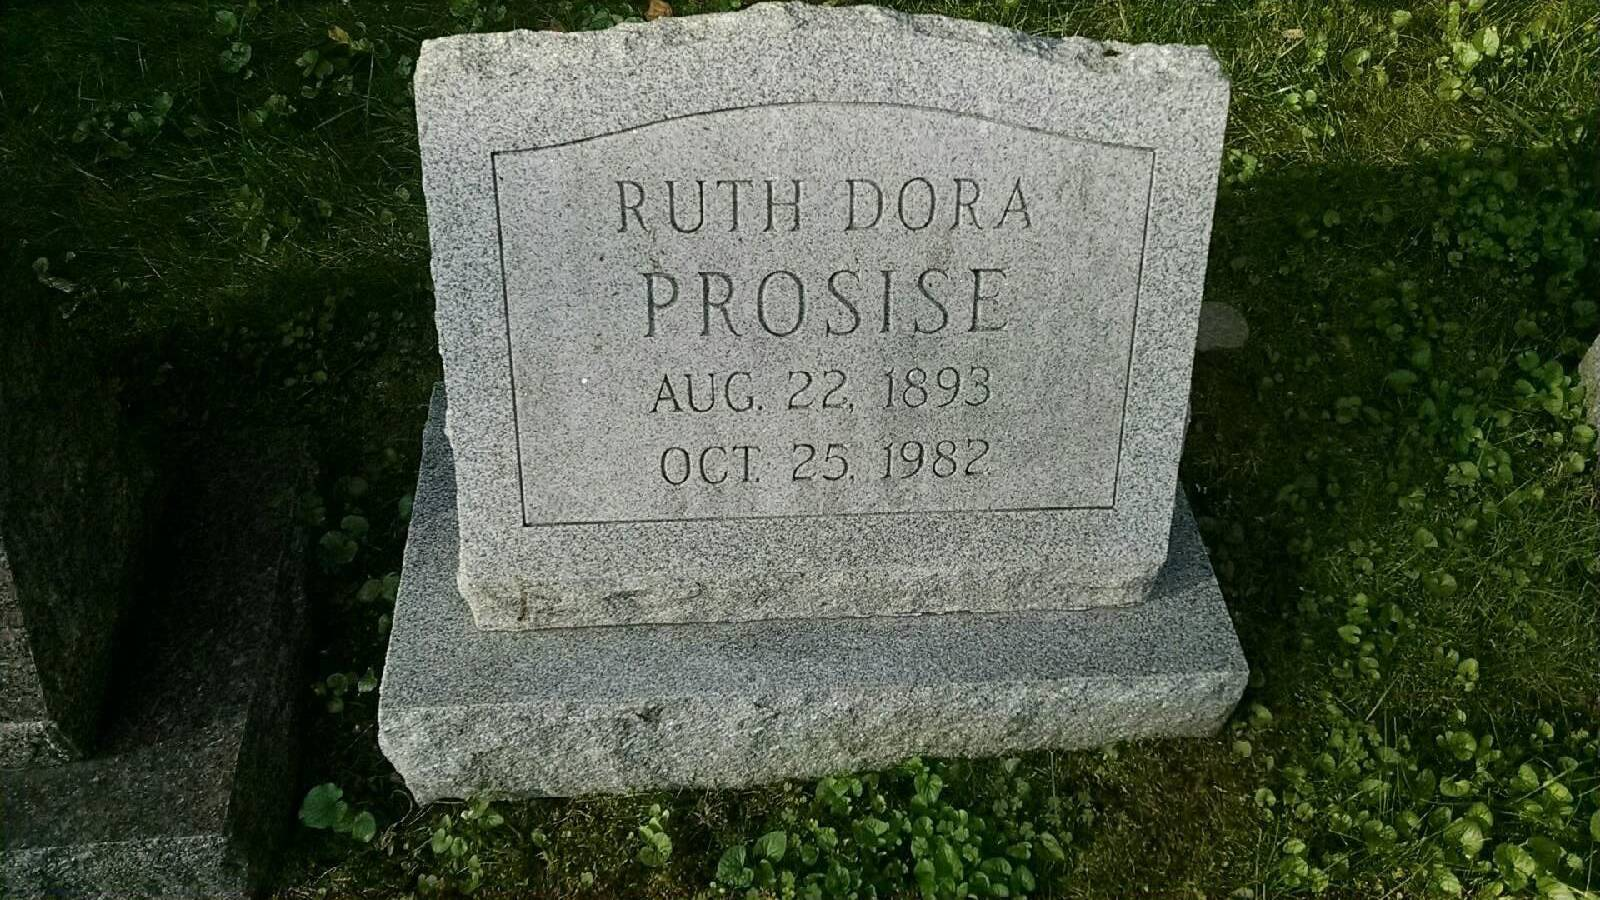upright: (355, 14, 1252, 831)
